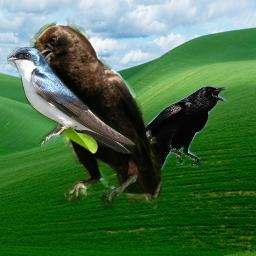Crow: (22, 21, 162, 209), (123, 85, 227, 175)
Swallow: (7, 47, 136, 154)
